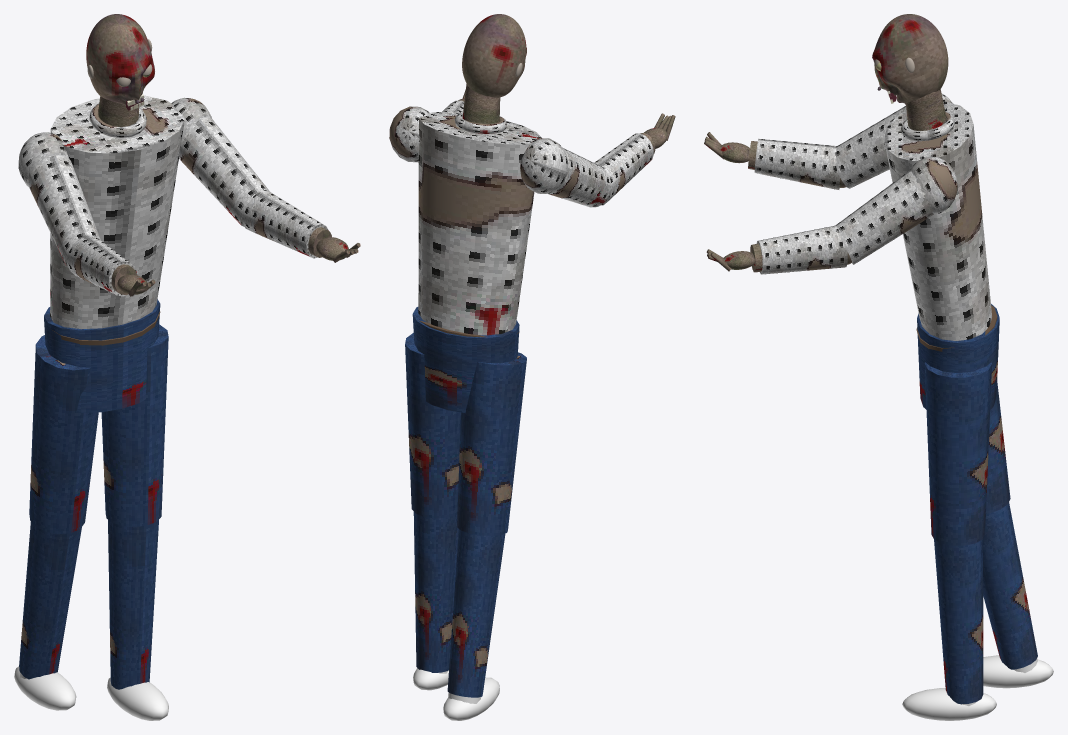
Rendered from Zombie_048.glb.
The picture shows the model from 3 angles, left to right: view 1: azimuth 30°, elevation 25°; view 2: azimuth 150°, elevation 25°; view 3: azimuth 270°, elevation 25°; orthographic projection. The views are drawn at different scales.
Visible parts, largest first — view 1: Zombie_048, object 18, object 12, object 4; view 2: Zombie_048, object 18, object 4; view 3: Zombie_048, object 18, object 12, object 4.
Part boxes in pixels (box(x1,y1,x2,y2)): Zombie_048: box(14, 95, 269, 720); object 18: box(86, 14, 154, 105); object 12: box(242, 190, 328, 258); object 4: box(66, 235, 137, 296); Zombie_048: box(389, 84, 611, 720); object 18: box(462, 14, 526, 97); object 4: box(594, 133, 653, 205); Zombie_048: box(835, 89, 1053, 720); object 18: box(872, 14, 948, 105); object 12: box(756, 225, 847, 274); object 4: box(754, 138, 840, 189).
Size of the model in its own units: 0.6584 by 1.99 by 0.925.
15 materials, 5 textured.
